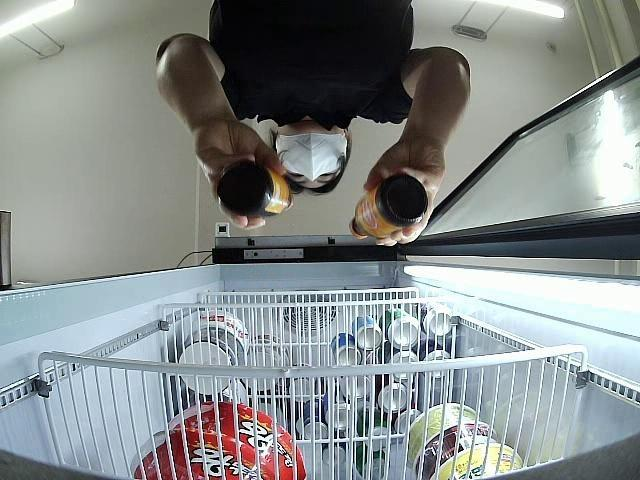17_vita500: (347, 172, 428, 238), (214, 157, 294, 220)
